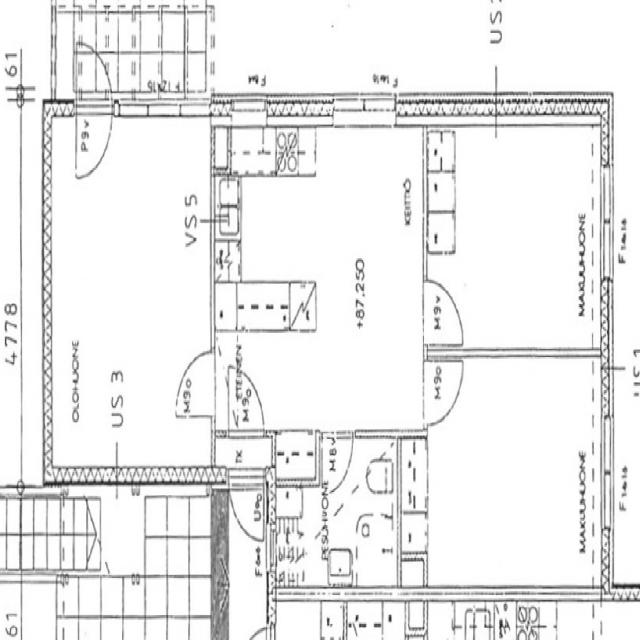door: (76, 97, 112, 182), (76, 31, 112, 115), (228, 466, 264, 548), (228, 362, 264, 437), (422, 361, 462, 425), (177, 352, 215, 416), (422, 280, 460, 343), (322, 428, 353, 493)
